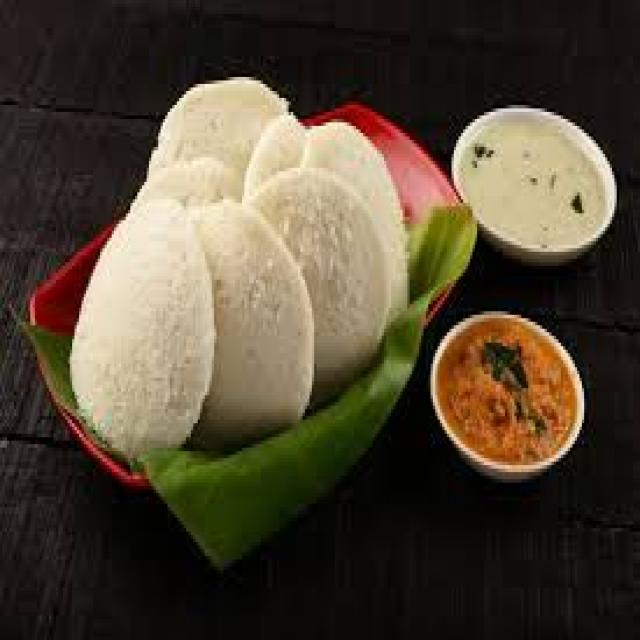IDLI: (70, 192, 214, 455), (249, 168, 396, 402), (193, 199, 312, 441), (149, 77, 286, 178), (300, 122, 398, 238)
